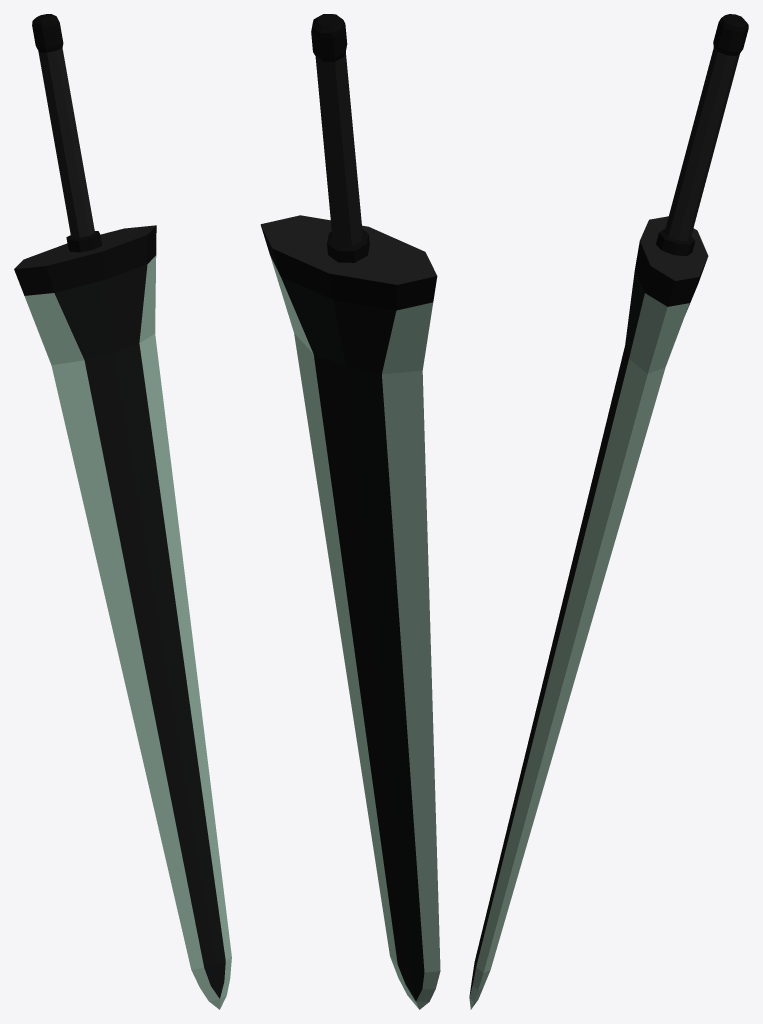
The model's file is swordInFloor.obj.
3 views of the same model, side by side, from view 1: azimuth 30°, elevation 25°; view 2: azimuth 150°, elevation 25°; view 3: azimuth 270°, elevation 25° (orthographic). The views are drawn at different scales.
Visible parts, largest first — view 1: Sword_Material.004, Sword_Material.003, Sword_Material.002, Sword_Material.001; view 2: Sword_Material.004, Sword_Material.003, Sword_Material.002, Sword_Material.001; view 3: Sword_Material.003, Sword_Material.002, Sword_Material.004, Sword_Material.001.
Boxes of the visible parts, x1,y1,x2,y2 form: Sword_Material.004: (54, 264, 225, 998); Sword_Material.003: (24, 255, 231, 1009); Sword_Material.002: (14, 48, 155, 269); Sword_Material.001: (14, 14, 156, 295); Sword_Material.004: (281, 277, 424, 1001); Sword_Material.003: (270, 256, 440, 1009); Sword_Material.002: (260, 52, 436, 284); Sword_Material.001: (261, 14, 437, 310); Sword_Material.003: (469, 293, 689, 1009); Sword_Material.002: (640, 47, 739, 280); Sword_Material.004: (469, 270, 695, 995); Sword_Material.001: (635, 14, 748, 306).
Size of the model in its own units: 0.2394 by 1.46 by 0.3811.
